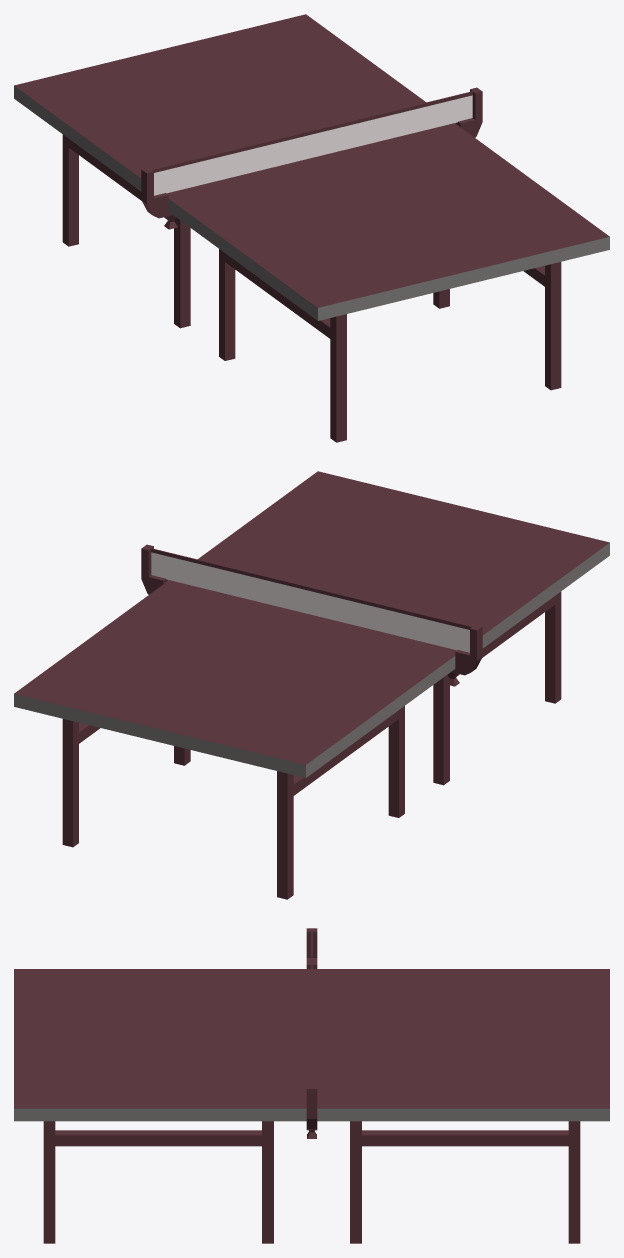
The model's file is table-tennis.fbx.
3 renders of one model, top to bottom at view 1: azimuth 30°, elevation 25°; view 2: azimuth 150°, elevation 25°; view 3: azimuth 270°, elevation 25°, orthographic.
Parts seen in each view (by area): view 1: table-tennis; view 2: table-tennis; view 3: table-tennis.
Part boxes in pixels (x1,y1,x2,y2): table-tennis: (14,14,609,442); table-tennis: (14,471,609,899); table-tennis: (14,928,609,1243).
Size of the model in its own units: 1.75 by 0.9181 by 2.74.
